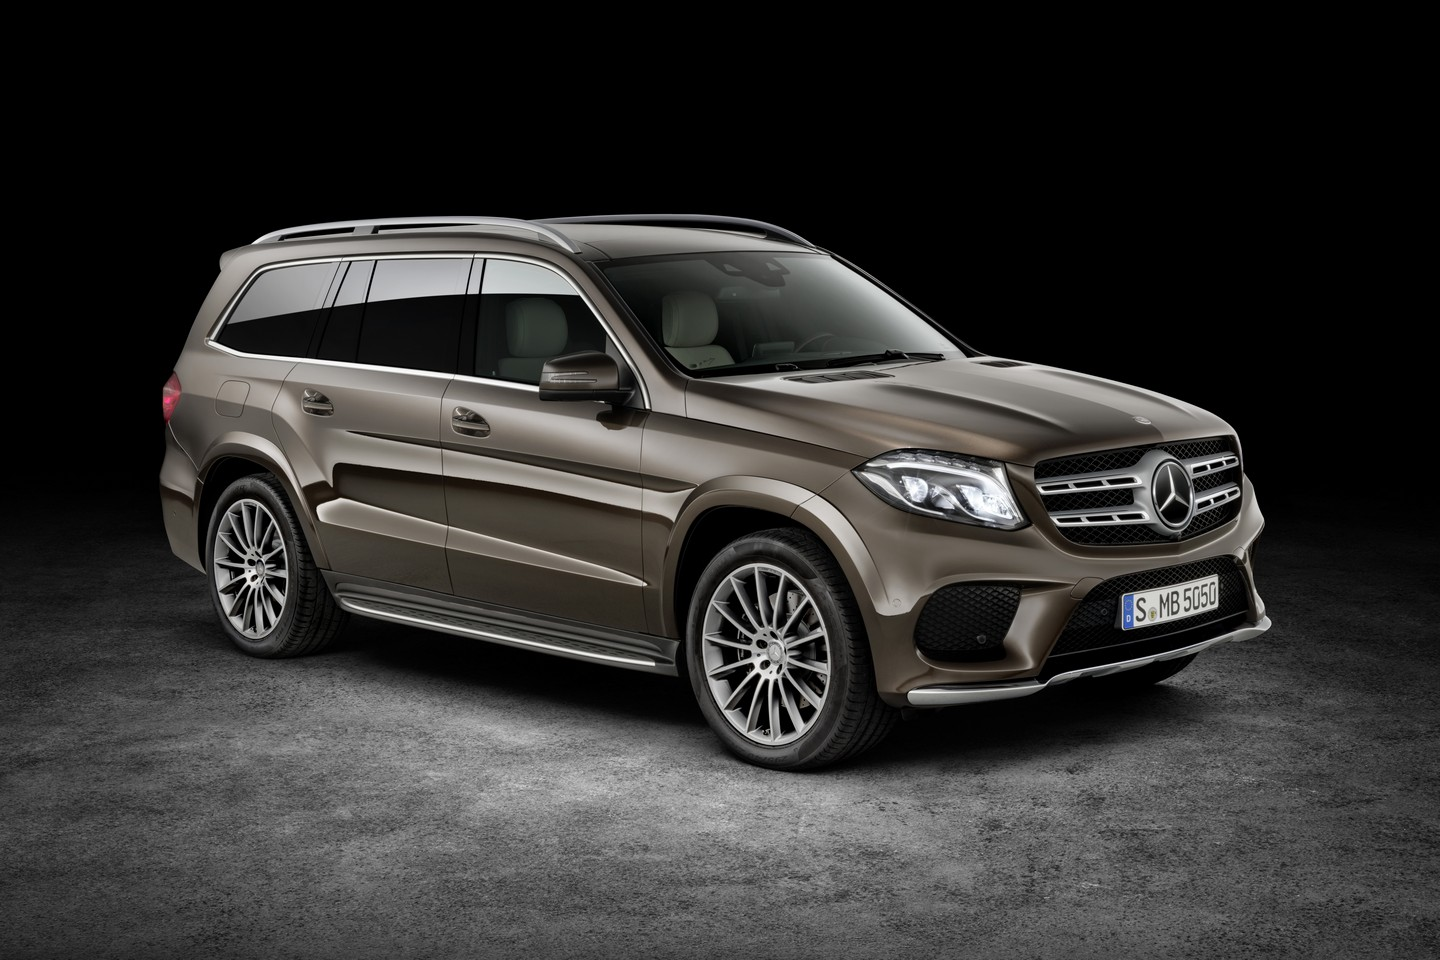pickup: (157, 202, 1279, 772)
